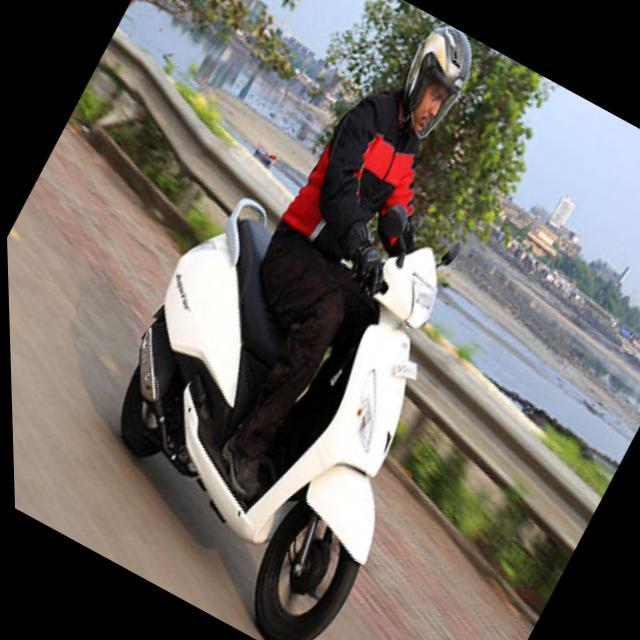Helmet: (396, 16, 476, 145)
